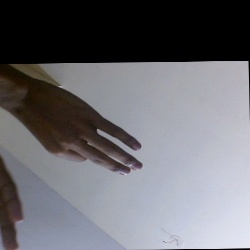hand: (34, 77, 147, 182)
